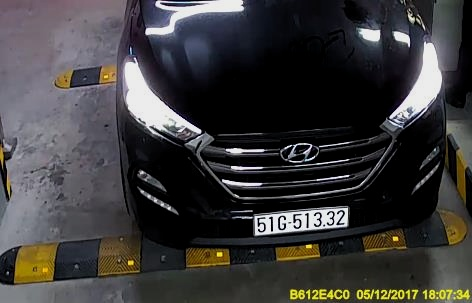plate: (246, 197, 352, 233)
